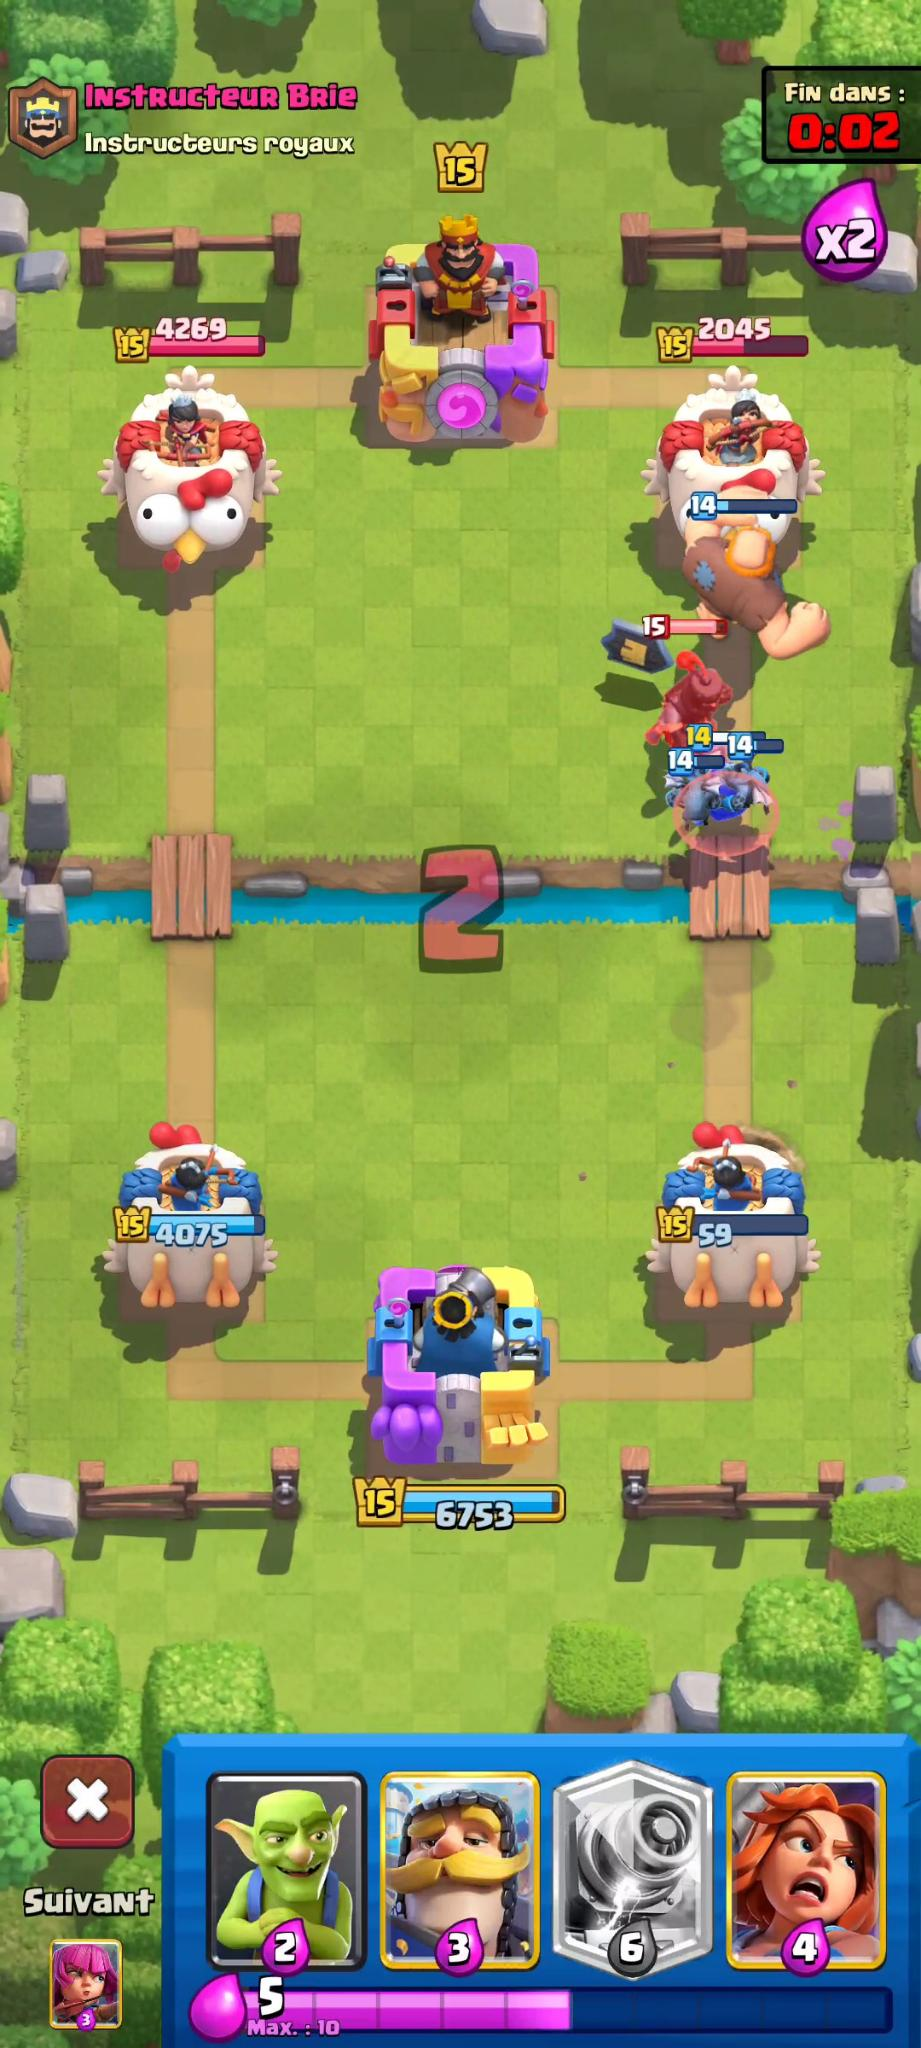gargouille: (657, 765, 711, 837), (729, 756, 793, 811), (695, 743, 747, 805)
geant: (673, 522, 844, 665)
